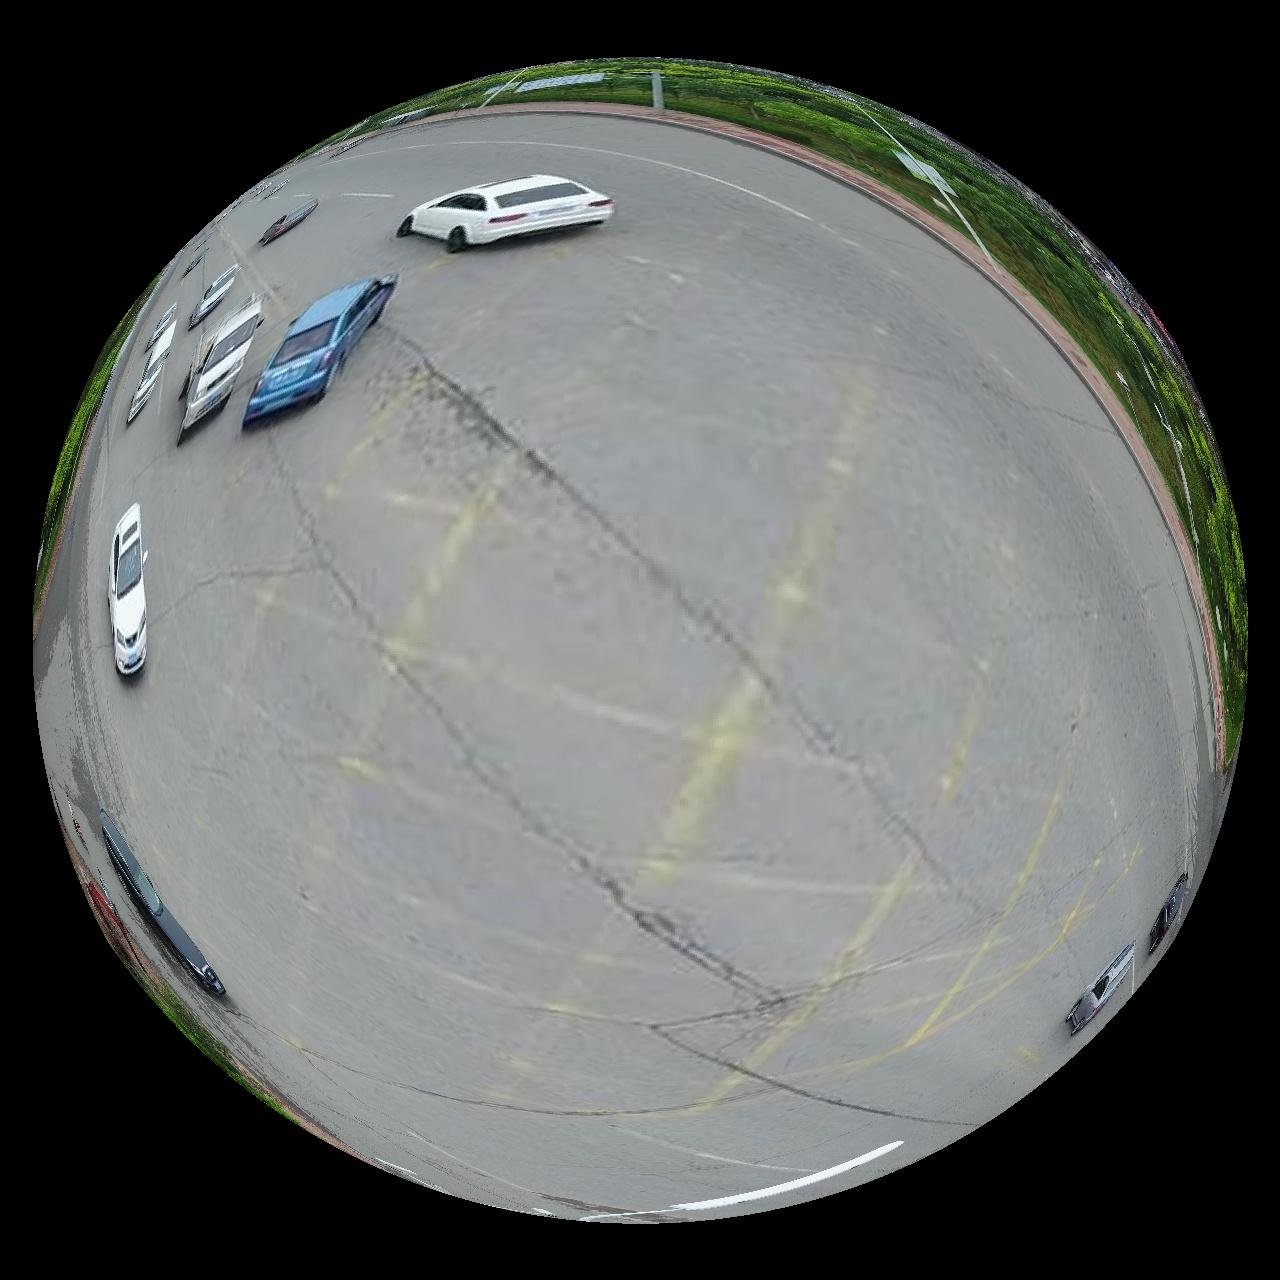cars: (98, 811, 225, 998), (243, 272, 397, 426), (397, 173, 616, 250), (179, 296, 261, 438), (106, 503, 146, 676), (1068, 944, 1136, 1036), (125, 319, 174, 422), (187, 262, 237, 326), (257, 196, 318, 244)
trees: (343, 59, 1249, 766), (40, 289, 150, 552)
